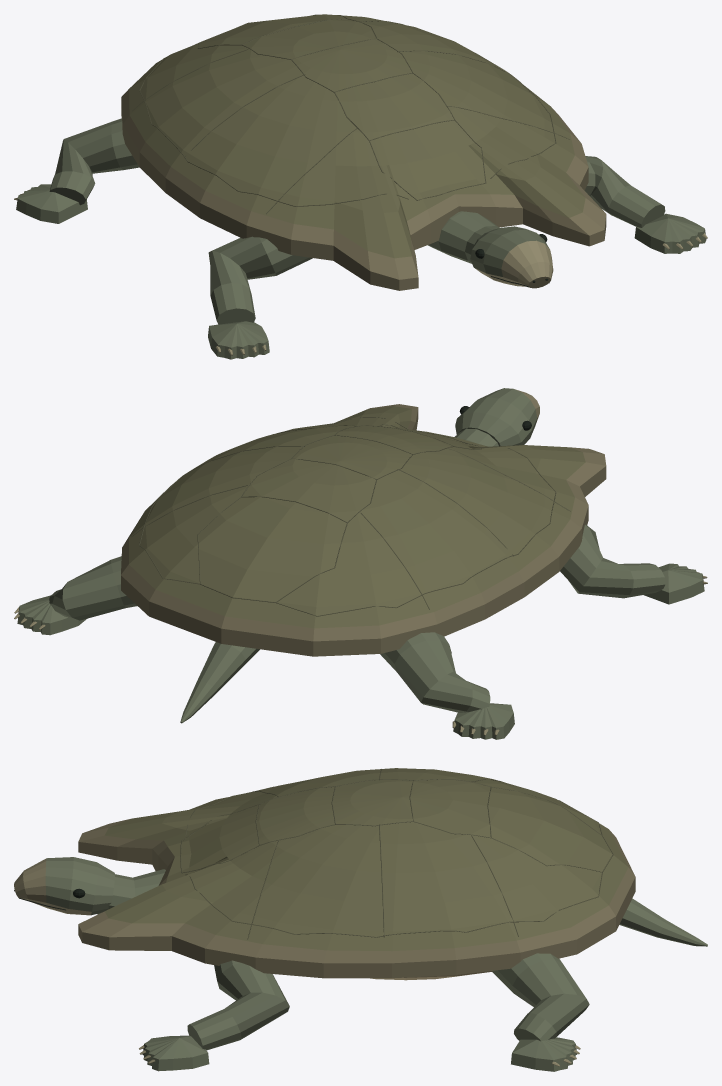
The picture shows the model from 3 angles, top to bottom: view 1: azimuth 30°, elevation 25°; view 2: azimuth 150°, elevation 25°; view 3: azimuth 270°, elevation 25°; orthographic projection.
Visible parts, largest first — view 1: carapace-adult-horned-rim, left-fore-articulated-limb, left-hind-articulated-limb, head-inflated-pinched-snout, right-fore-articulated-limb, shallow-five-vertebral-four-paired-pleural-seams, right-fore-broad-webbed-foot, left-fore-broad-webbed-foot, neck-gentle-side-curve, left-hind-broad-webbed-foot; view 2: carapace-adult-horned-rim, left-hind-articulated-limb, left-fore-articulated-limb, head-inflated-pinched-snout, shallow-five-vertebral-four-paired-pleural-seams, right-hind-articulated-limb, modest-tapering-tail, left-hind-broad-webbed-foot, left-fore-broad-webbed-foot, right-hind-broad-webbed-foot; view 3: carapace-adult-horned-rim, right-hind-articulated-limb, right-fore-articulated-limb, head-inflated-pinched-snout, shallow-five-vertebral-four-paired-pleural-seams, right-fore-broad-webbed-foot, right-hind-broad-webbed-foot, modest-tapering-tail, neck-gentle-side-curve.
Part boxes in pixels (left/top/right/bottom): carapace-adult-horned-rim: left=121, top=14, right=606, bottom=290; left-fore-articulated-limb: left=208, top=236, right=312, bottom=324; left-hind-articulated-limb: left=49, top=118, right=139, bottom=205; head-inflated-pinched-snout: left=470, top=226, right=553, bottom=288; right-fore-articulated-limb: left=584, top=156, right=665, bottom=227; shallow-five-vertebral-four-paired-pleural-seams: left=132, top=14, right=570, bottom=213; right-fore-broad-webbed-foot: left=634, top=213, right=706, bottom=253; left-fore-broad-webbed-foot: left=208, top=321, right=269, bottom=359; neck-gentle-side-curve: left=428, top=211, right=499, bottom=263; left-hind-broad-webbed-foot: left=16, top=184, right=87, bottom=223; carapace-adult-horned-rim: left=121, top=404, right=606, bottom=656; left-hind-articulated-limb: left=380, top=632, right=490, bottom=712; left-fore-articulated-limb: left=560, top=524, right=665, bottom=598; head-inflated-pinched-snout: left=455, top=388, right=539, bottom=446; shallow-five-vertebral-four-paired-pleural-seams: left=131, top=417, right=570, bottom=616; right-hind-articulated-limb: left=49, top=556, right=136, bottom=620; modest-tapering-tail: left=180, top=642, right=259, bottom=723; left-hind-broad-webbed-foot: left=453, top=703, right=514, bottom=739; left-fore-broad-webbed-foot: left=644, top=563, right=704, bottom=604; right-hind-broad-webbed-foot: left=17, top=595, right=86, bottom=635; carapace-adult-horned-rim: left=78, top=768, right=635, bottom=978; right-hind-articulated-limb: left=492, top=953, right=589, bottom=1041; right-fore-articulated-limb: left=187, top=960, right=289, bottom=1050; head-inflated-pinched-snout: left=14, top=857, right=114, bottom=915; shallow-five-vertebral-four-paired-pleural-seams: left=180, top=769, right=613, bottom=939; right-fore-broad-webbed-foot: left=142, top=1035, right=209, bottom=1071; right-hind-broad-webbed-foot: left=511, top=1037, right=577, bottom=1071; modest-tapering-tail: left=619, top=898, right=707, bottom=946; neck-gentle-side-curve: left=97, top=869, right=165, bottom=914.
Bounding box in the file's own units: 2.86 × 0.91 × 3.56.
